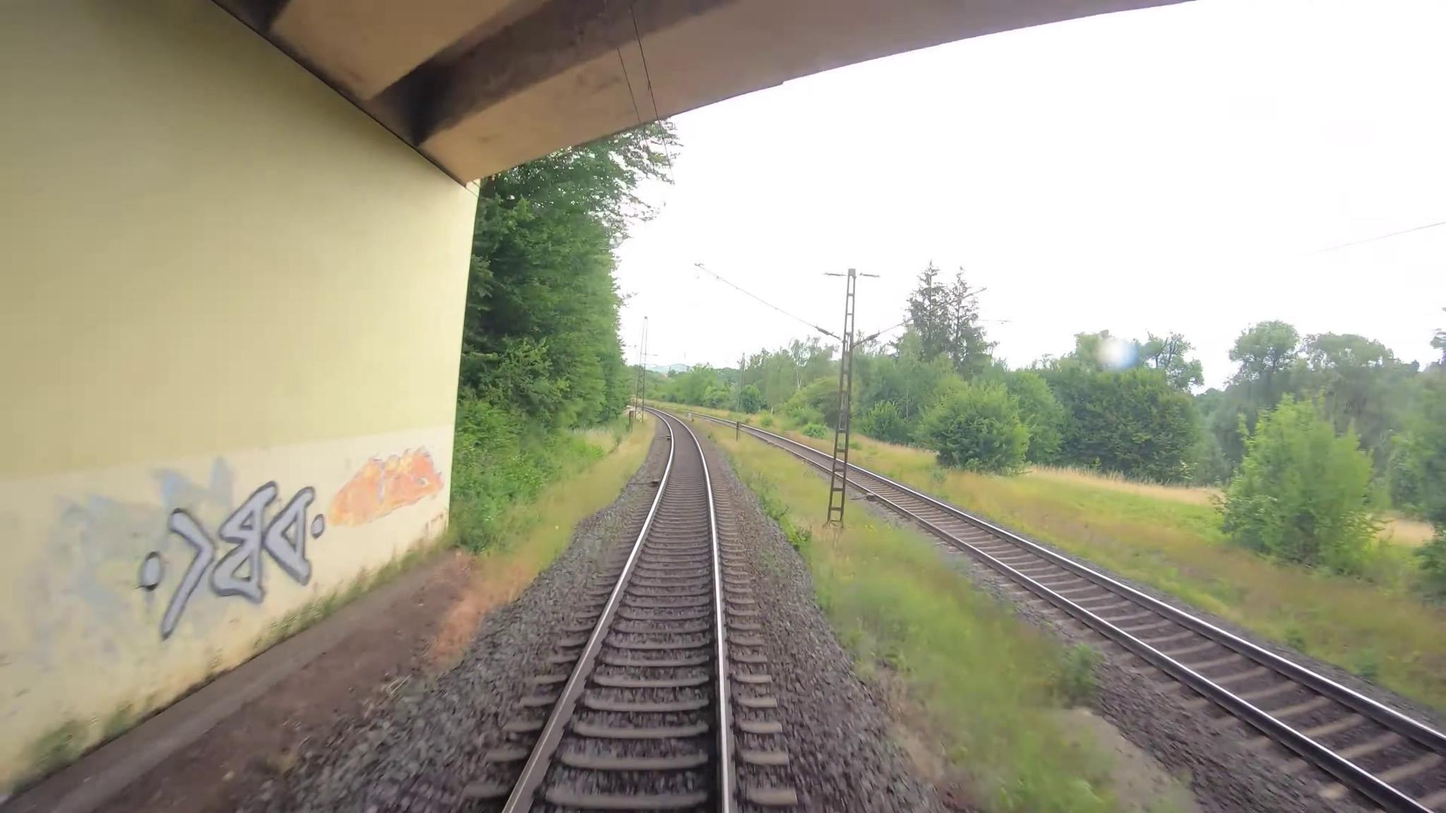Plant: (660, 408, 1196, 813)
